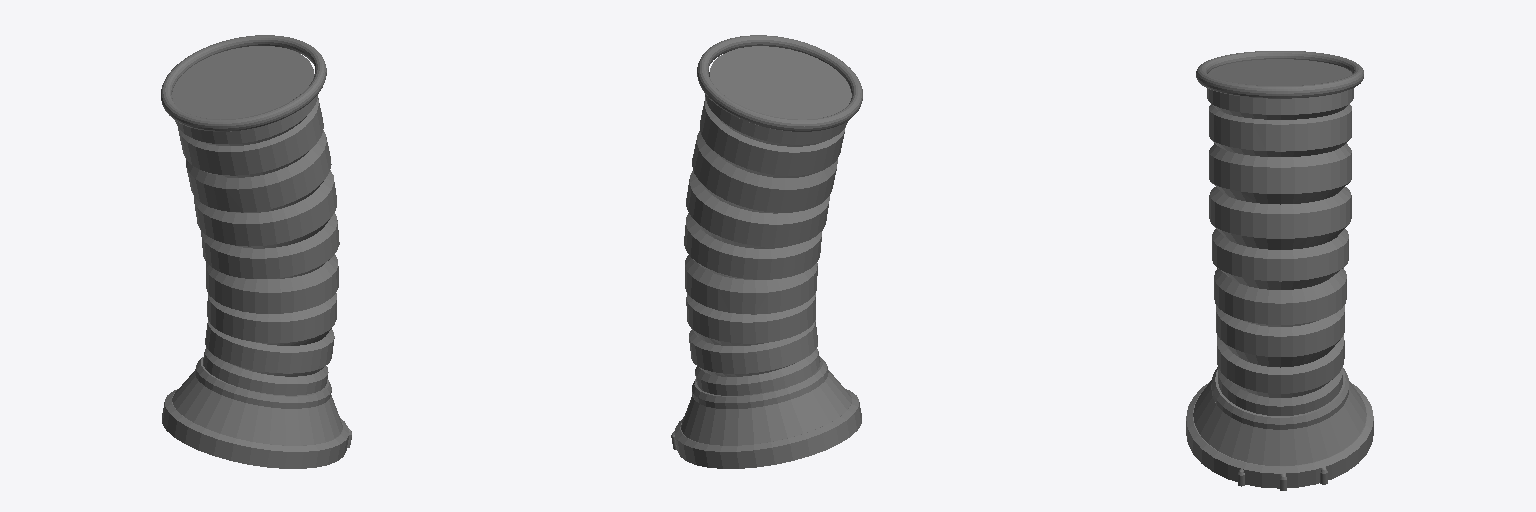
The model's file is delantera_izq.obj.
3 views of the same model, side by side, from view 1: azimuth 30°, elevation 25°; view 2: azimuth 150°, elevation 25°; view 3: azimuth 270°, elevation 25° (orthographic).
Visible parts, largest first — view 1: C_rculo, C_rculo_009_C_rculo_010, C_rculo_010_C_rculo_011, C_rculo_003, C_rculo_008_C_rculo_009; view 2: C_rculo, C_rculo_009_C_rculo_010, C_rculo_010_C_rculo_011, C_rculo_003, C_rculo_008_C_rculo_009; view 3: C_rculo, C_rculo_009_C_rculo_010, C_rculo_010_C_rculo_011, C_rculo_003, C_rculo_008_C_rculo_009.
Part boxes in pixels (left/top/right/bottom): C_rculo: left=172, top=46, right=339, bottom=395; C_rculo_009_C_rculo_010: left=172, top=371, right=342, bottom=445; C_rculo_010_C_rculo_011: left=162, top=389, right=348, bottom=468; C_rculo_003: left=161, top=35, right=326, bottom=131; C_rculo_008_C_rculo_009: left=195, top=357, right=331, bottom=408; C_rculo: left=684, top=46, right=851, bottom=395; C_rculo_009_C_rculo_010: left=681, top=370, right=851, bottom=445; C_rculo_010_C_rculo_011: left=675, top=389, right=861, bottom=468; C_rculo_003: left=697, top=35, right=862, bottom=131; C_rculo_008_C_rculo_009: left=692, top=357, right=828, bottom=408; C_rculo: left=1207, top=59, right=1353, bottom=415; C_rculo_009_C_rculo_010: left=1193, top=380, right=1366, bottom=465; C_rculo_010_C_rculo_011: left=1186, top=382, right=1373, bottom=488; C_rculo_003: left=1196, top=51, right=1363, bottom=98; C_rculo_008_C_rculo_009: left=1211, top=367, right=1348, bottom=429.
Bounding box in the file's own units: 1.06 × 2.37 × 1.03.